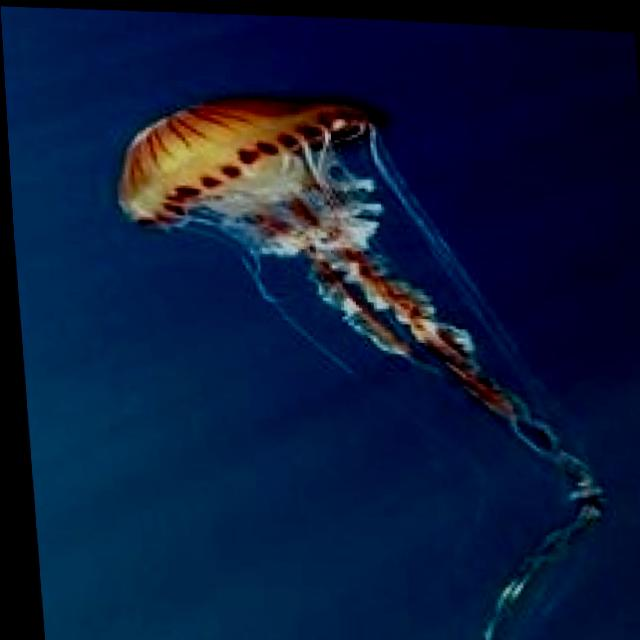Box-jellyfish: (75, 52, 640, 640)
